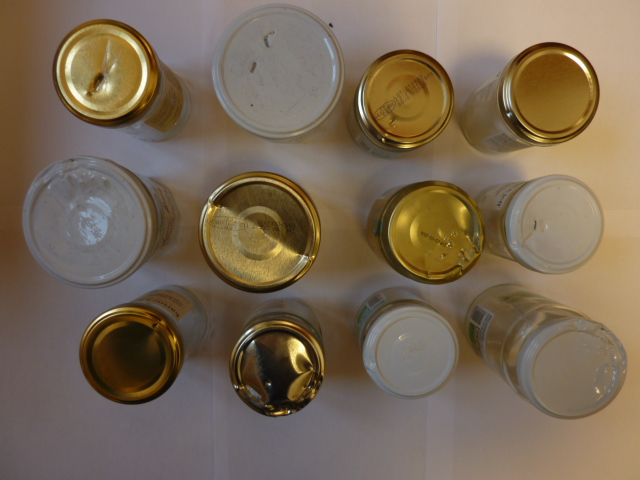damaged: (210, 4, 344, 138), (20, 155, 154, 287), (198, 171, 321, 292), (519, 319, 626, 419), (52, 20, 154, 124), (500, 40, 600, 144), (79, 306, 182, 405), (355, 50, 455, 149), (230, 320, 327, 418), (509, 174, 605, 273), (363, 307, 459, 401)
